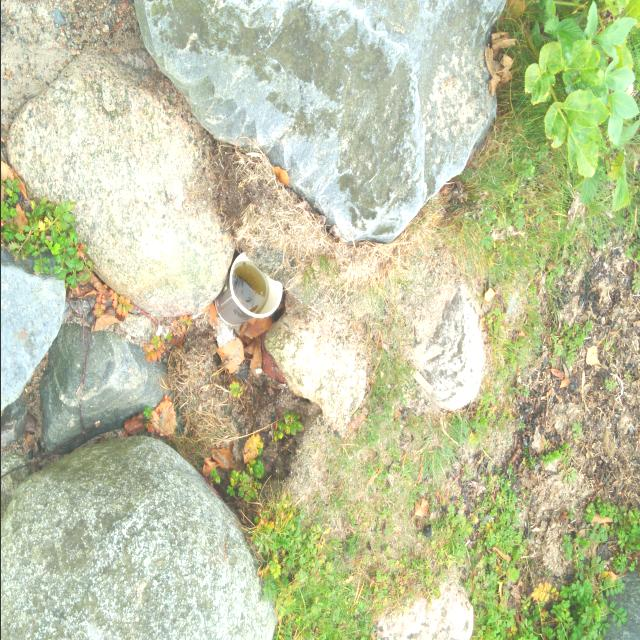Paper cup: (214, 253, 282, 327)
